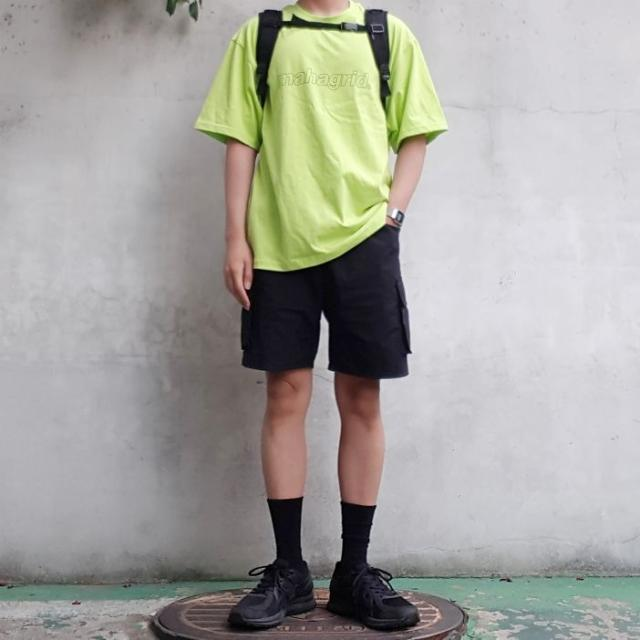shortpants: (243, 220, 412, 376)
shortsleeve: (193, 0, 445, 272)
